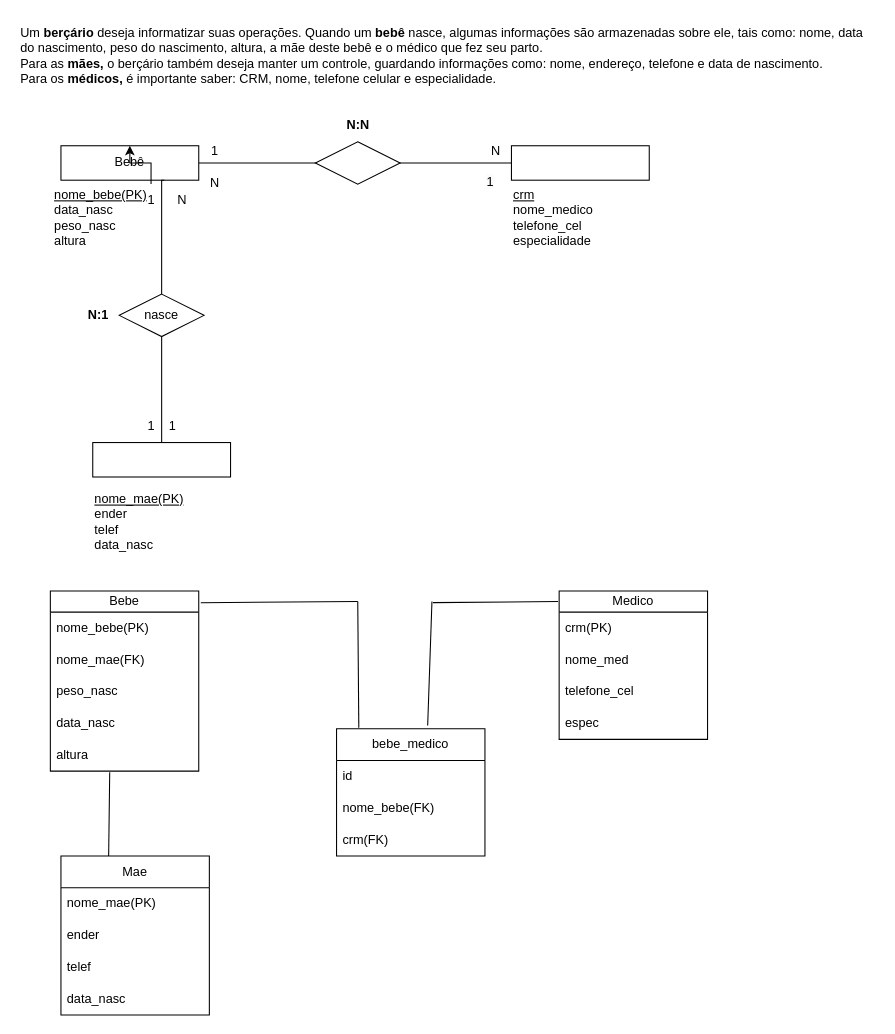
This 895x1034 diagram has some shape labels left out. Each missing label, with the centre of its shape:
Mãe: point (161, 459)
Médicos: point (579, 162)
parto: point (357, 162)
